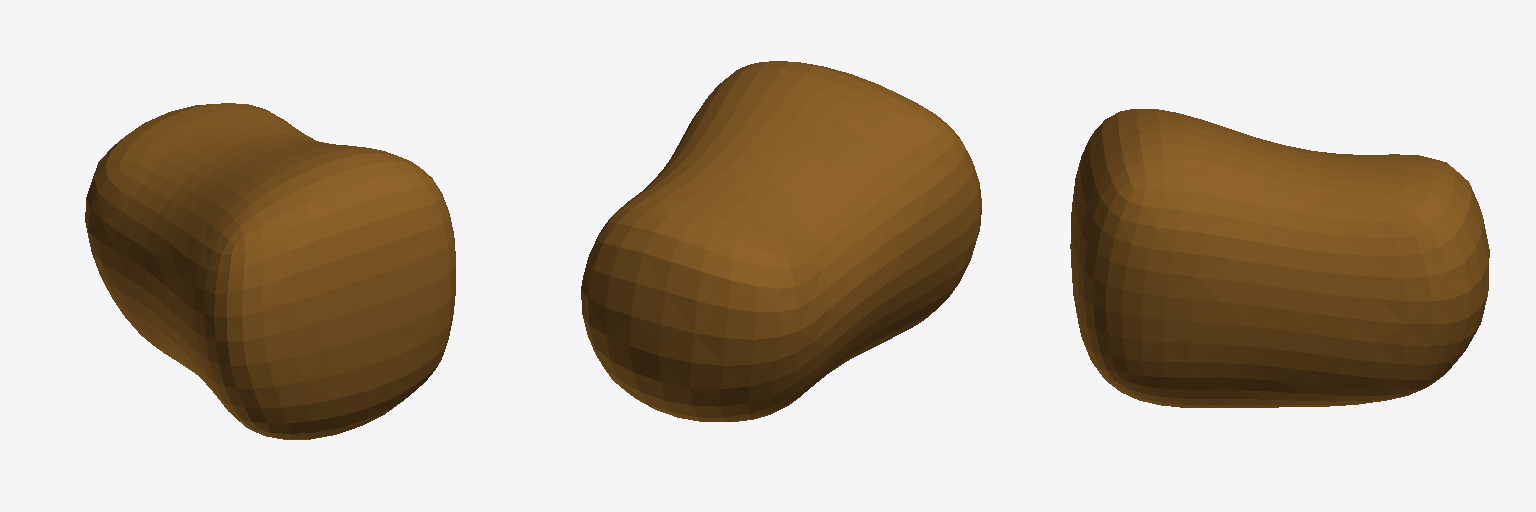
The model's file is fing4_1.obj.
3 views of the same model, side by side, from view 1: azimuth 30°, elevation 25°; view 2: azimuth 150°, elevation 25°; view 3: azimuth 270°, elevation 25° (orthographic).
Visible parts, largest first — view 1: f4o1; view 2: f4o1; view 3: f4o1.
Part boxes in pixels (x1,y1,x2,y2): f4o1: (85,103,455,439); f4o1: (581,61,981,421); f4o1: (1070,109,1489,407).
Size of the model in its own units: 0.9054 by 0.9184 by 1.29.